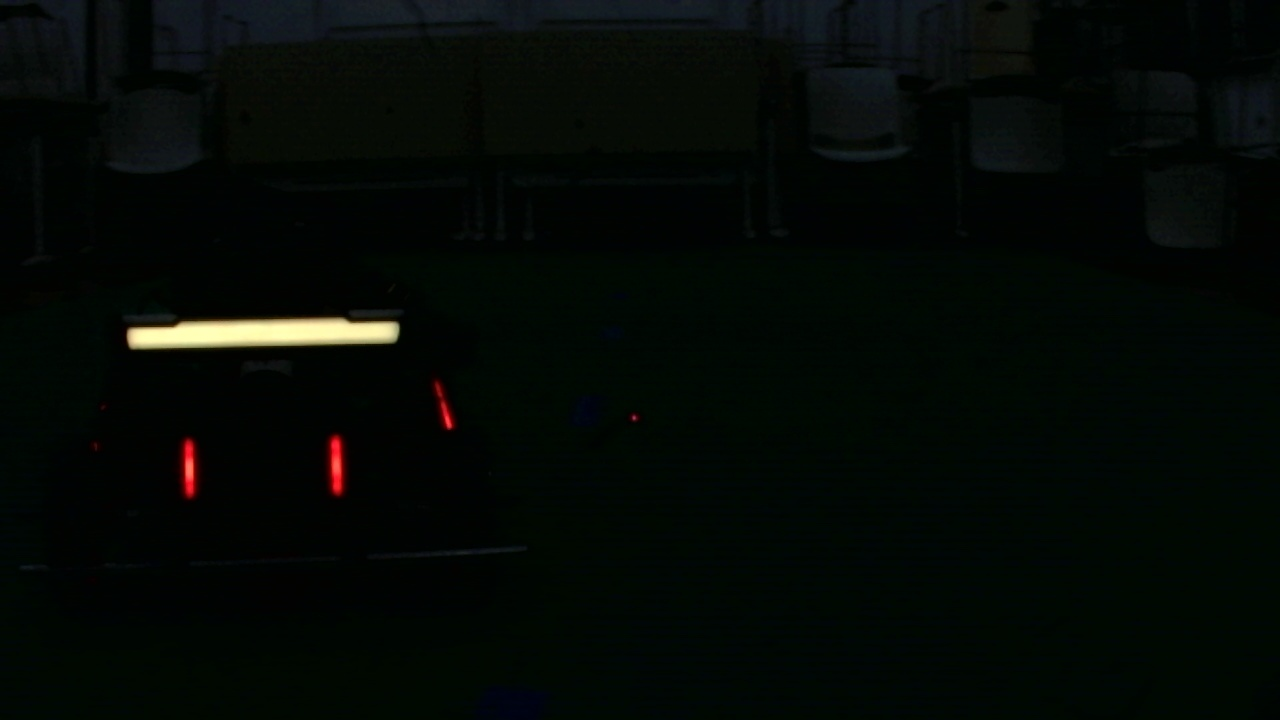lamp: (326, 433, 349, 499), (180, 434, 198, 501)
notpair1: (331, 377, 454, 494)
pair1: (181, 436, 344, 499)
